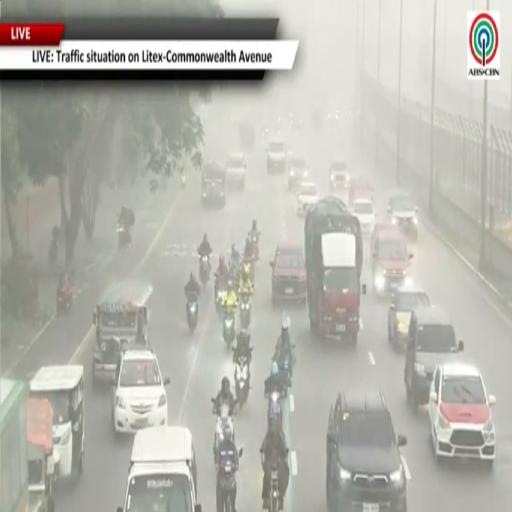bus: (0, 379, 28, 511)
car: (327, 390, 407, 511), (117, 426, 201, 511), (429, 363, 495, 466), (404, 307, 464, 410), (113, 348, 169, 434), (371, 227, 413, 296), (388, 287, 430, 348), (270, 243, 306, 306), (387, 190, 418, 241), (201, 163, 226, 207), (352, 198, 375, 236), (348, 176, 374, 209), (297, 182, 320, 216), (226, 153, 247, 189), (288, 155, 308, 190), (267, 138, 287, 173), (329, 158, 350, 190)
jeepney: (93, 280, 152, 381), (27, 398, 54, 511)
motorcycle: (212, 398, 235, 458), (217, 454, 236, 511), (234, 348, 251, 407), (274, 345, 294, 387), (267, 463, 279, 511), (268, 390, 282, 428), (215, 278, 227, 316), (223, 309, 235, 347), (187, 294, 198, 333), (240, 294, 251, 328), (57, 291, 73, 314), (117, 223, 131, 249), (48, 239, 58, 267), (200, 255, 209, 285), (244, 260, 254, 286), (230, 259, 241, 282), (249, 233, 258, 261), (180, 172, 185, 187)
truck: (304, 197, 366, 343)
